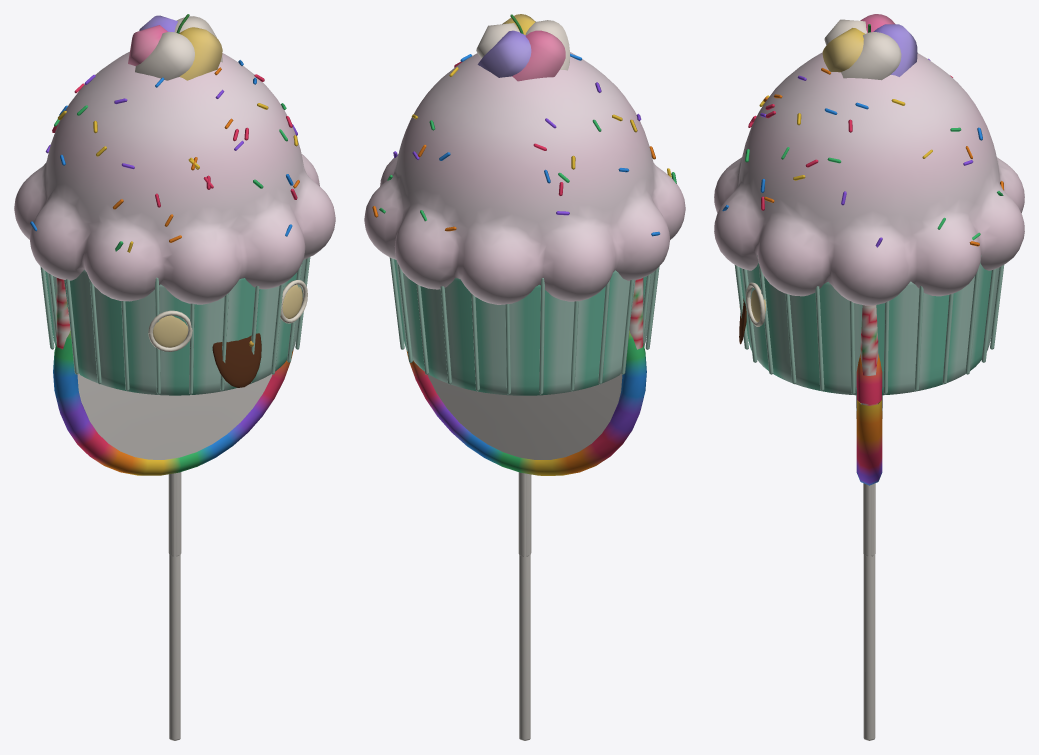
File: village.glb
The picture shows the model from 3 angles, left to right: view 1: azimuth 30°, elevation 25°; view 2: azimuth 150°, elevation 25°; view 3: azimuth 270°, elevation 25°; orthographic projection.
Visible parts, largest first — view 1: HouseMint, LollipopFlat, TwistLo, Fence; view 2: HouseMint, LollipopFlat, TwistLo, Fence; view 3: HouseMint, LollipopFlat, TwistLo, Fence.
Boxes of the visible parts, left/top/right/bottom form: HouseMint: left=14, top=14, right=335, bottom=395; LollipopFlat: left=53, top=331, right=293, bottom=740; TwistLo: left=128, top=15, right=222, bottom=556; Fence: left=56, top=278, right=70, bottom=349; HouseMint: left=364, top=14, right=685, bottom=395; LollipopFlat: left=406, top=330, right=646, bottom=740; TwistLo: left=476, top=14, right=569, bottom=556; Fence: left=629, top=278, right=643, bottom=349; HouseMint: left=714, top=24, right=1024, bottom=395; LollipopFlat: left=856, top=354, right=882, bottom=740; TwistLo: left=822, top=14, right=917, bottom=556; Fence: left=860, top=305, right=878, bottom=405.
Bounding box in the file's own units: 2.54 × 6.29 × 2.45.
